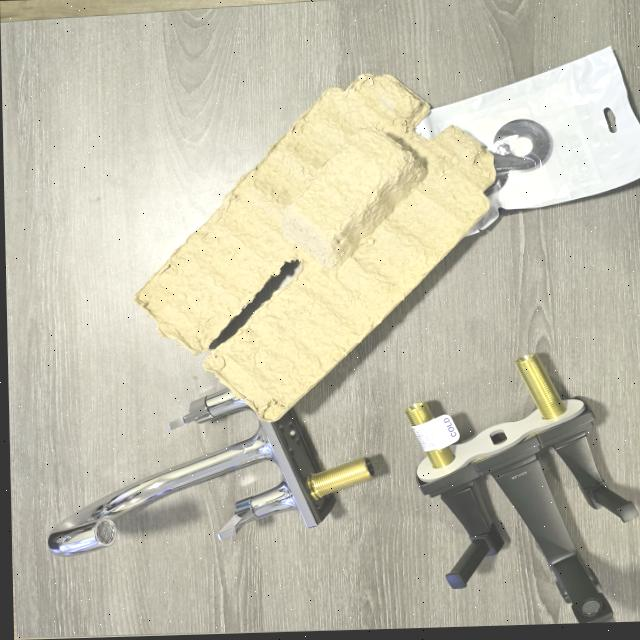10o: (48, 408, 374, 555), (169, 387, 250, 429)
13o: (416, 46, 640, 235)
9: (407, 353, 638, 623)
